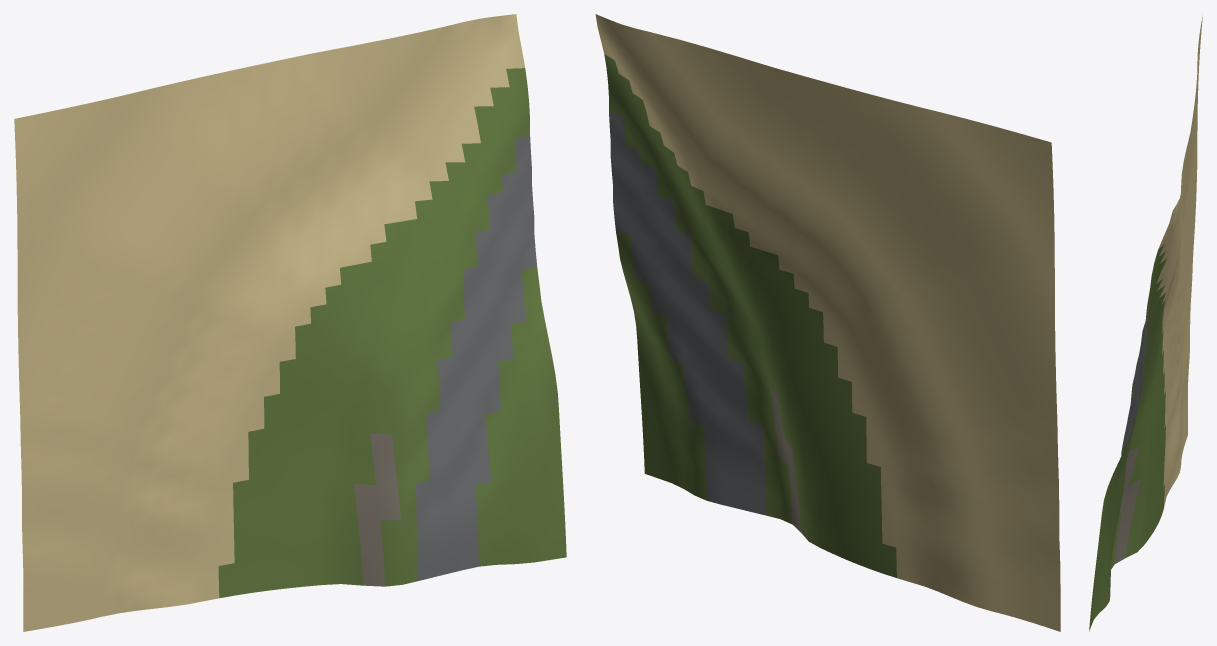
The model's file is island_terrain_01_05.obj.
The picture shows the model from 3 angles, left to right: view 1: azimuth 30°, elevation 25°; view 2: azimuth 150°, elevation 25°; view 3: azimuth 270°, elevation 25°; orthographic projection. The views are drawn at different scales.
Visible parts, largest first — view 1: island_terrain_01_05; view 2: island_terrain_01_05; view 3: island_terrain_01_05.
Boxes of the visible parts, left/top/right/bottom form: island_terrain_01_05: left=14, top=14, right=566, bottom=631; island_terrain_01_05: left=595, top=14, right=1060, bottom=631; island_terrain_01_05: left=1089, top=14, right=1202, bottom=631.
Size of the model in its own units: 256 by 256 by 62.67.
